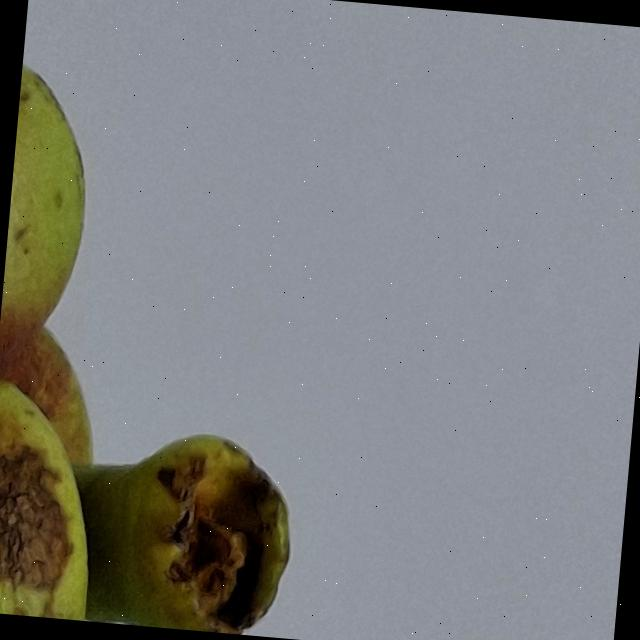mangosteen: (0, 0, 407, 640)
